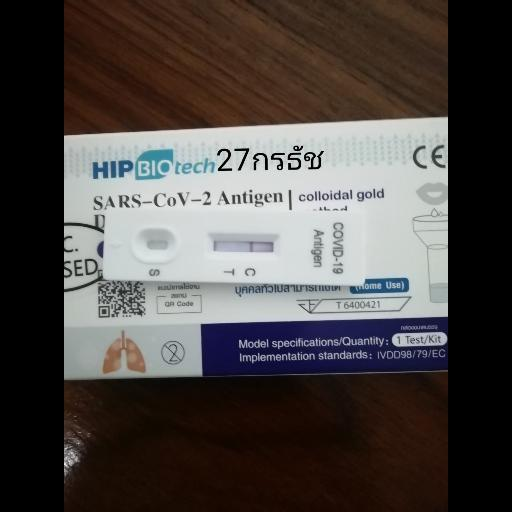Neg: (103, 205, 363, 283)
